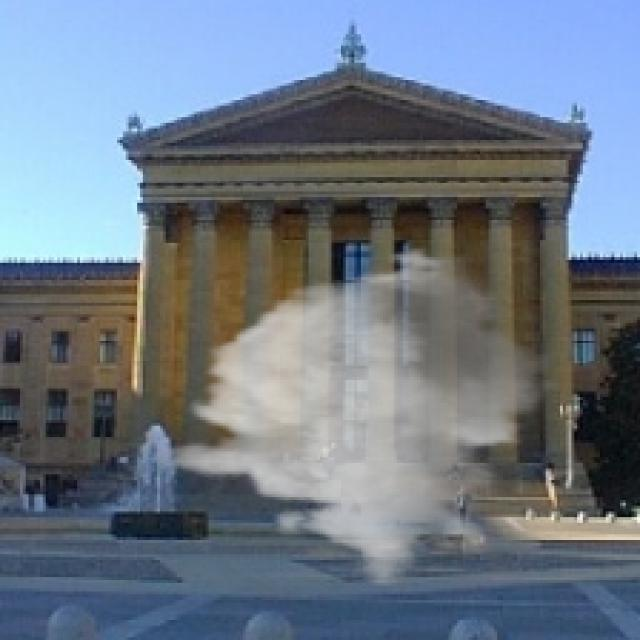Smoke: (160, 246, 566, 588)
